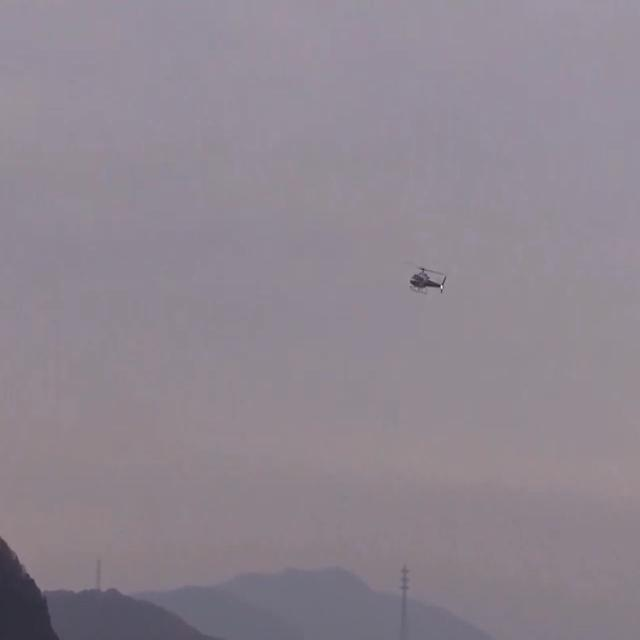Helicopter: (395, 248, 454, 306)
